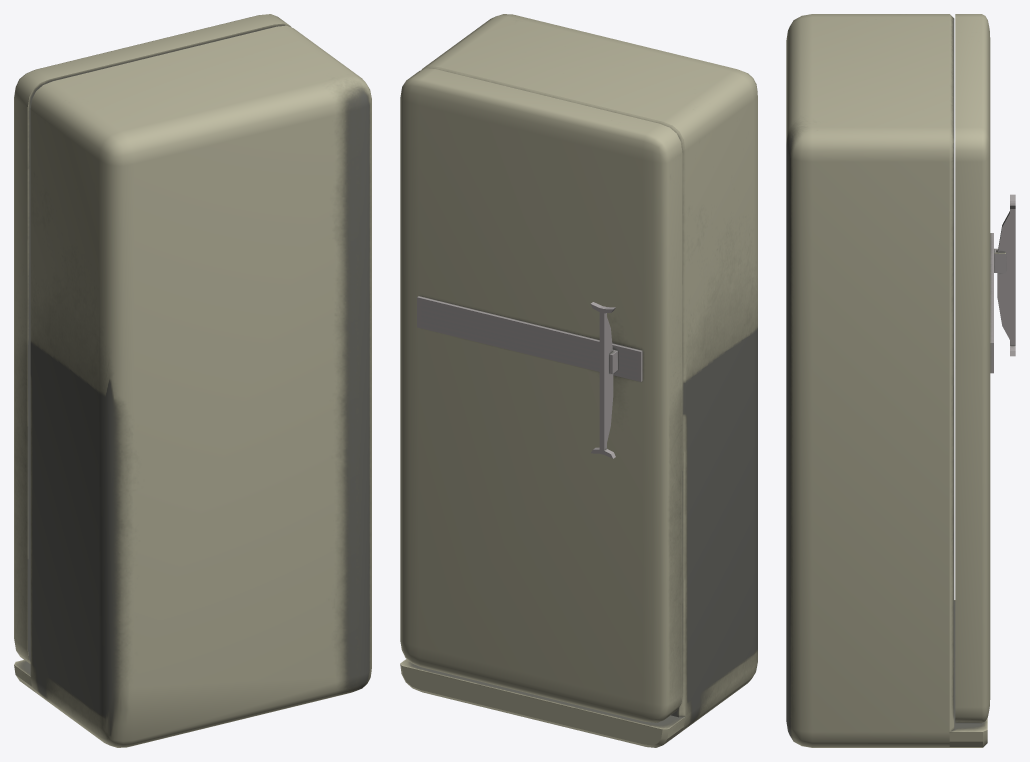
The model's file is SM_Refrigerator.fbx.
3 views of the same model, side by side, from view 1: azimuth 30°, elevation 25°; view 2: azimuth 150°, elevation 25°; view 3: azimuth 270°, elevation 25° (orthographic).
Parts seen in each view (by area): view 1: SM_Refrigerator; view 2: SM_Refrigerator; view 3: SM_Refrigerator.
Part boxes in pixels (x1,y1,x2,y2): SM_Refrigerator: (14, 14, 371, 747); SM_Refrigerator: (400, 14, 757, 747); SM_Refrigerator: (786, 14, 1015, 747).
Size of the model in its own units: 82.87 by 60.85 by 181.
Materials: 1 (1 with a texture image).
